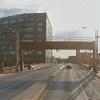Bridge: (17, 31, 97, 57)
